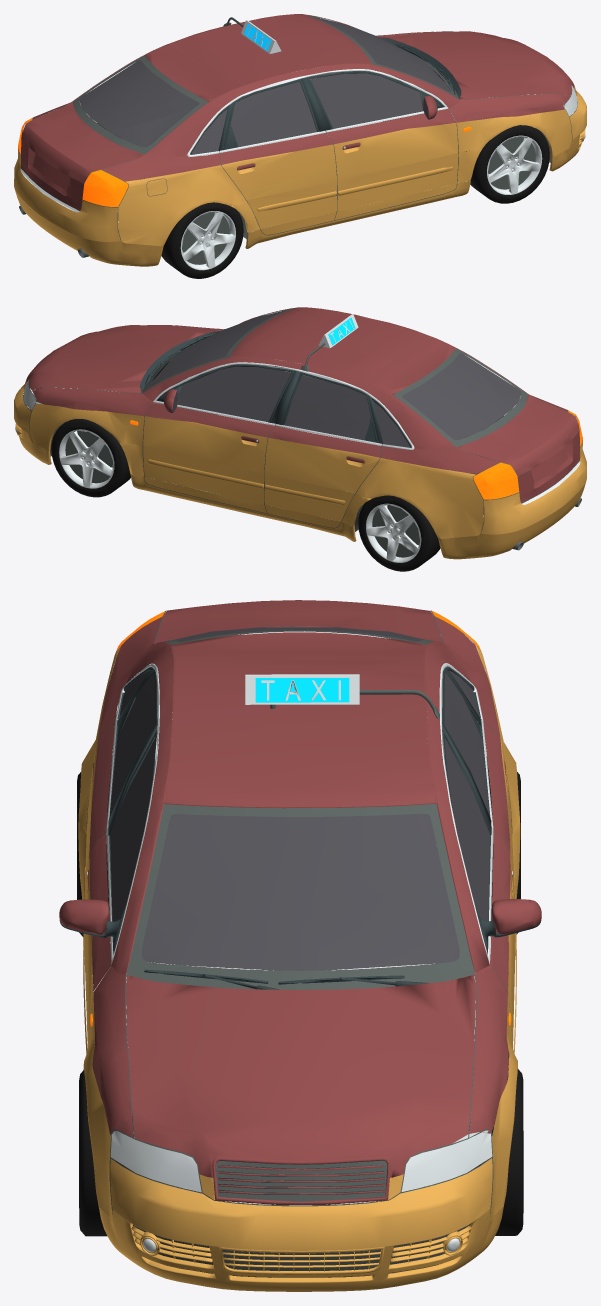
The model's file is TAXI.glb.
3 views of the same model, one above another, from view 1: azimuth 30°, elevation 25°; view 2: azimuth 150°, elevation 25°; view 3: azimuth 270°, elevation 25° (orthographic). The views are drawn at different scales.
Visible parts, largest first — view 1: Box096.006, body; view 2: Box096.006, body; view 3: Box096.006, body.
Part boxes in pixels (bbox=[...]): Box096.006: bbox=[14, 15, 586, 278]; body: bbox=[21, 14, 576, 210]; Box096.006: bbox=[14, 308, 586, 571]; body: bbox=[24, 307, 579, 502]; Box096.006: bbox=[59, 610, 541, 1291]; body: bbox=[59, 600, 541, 1204].
Bounding box in the file's own units: 4.9 × 1.61 × 1.95.
